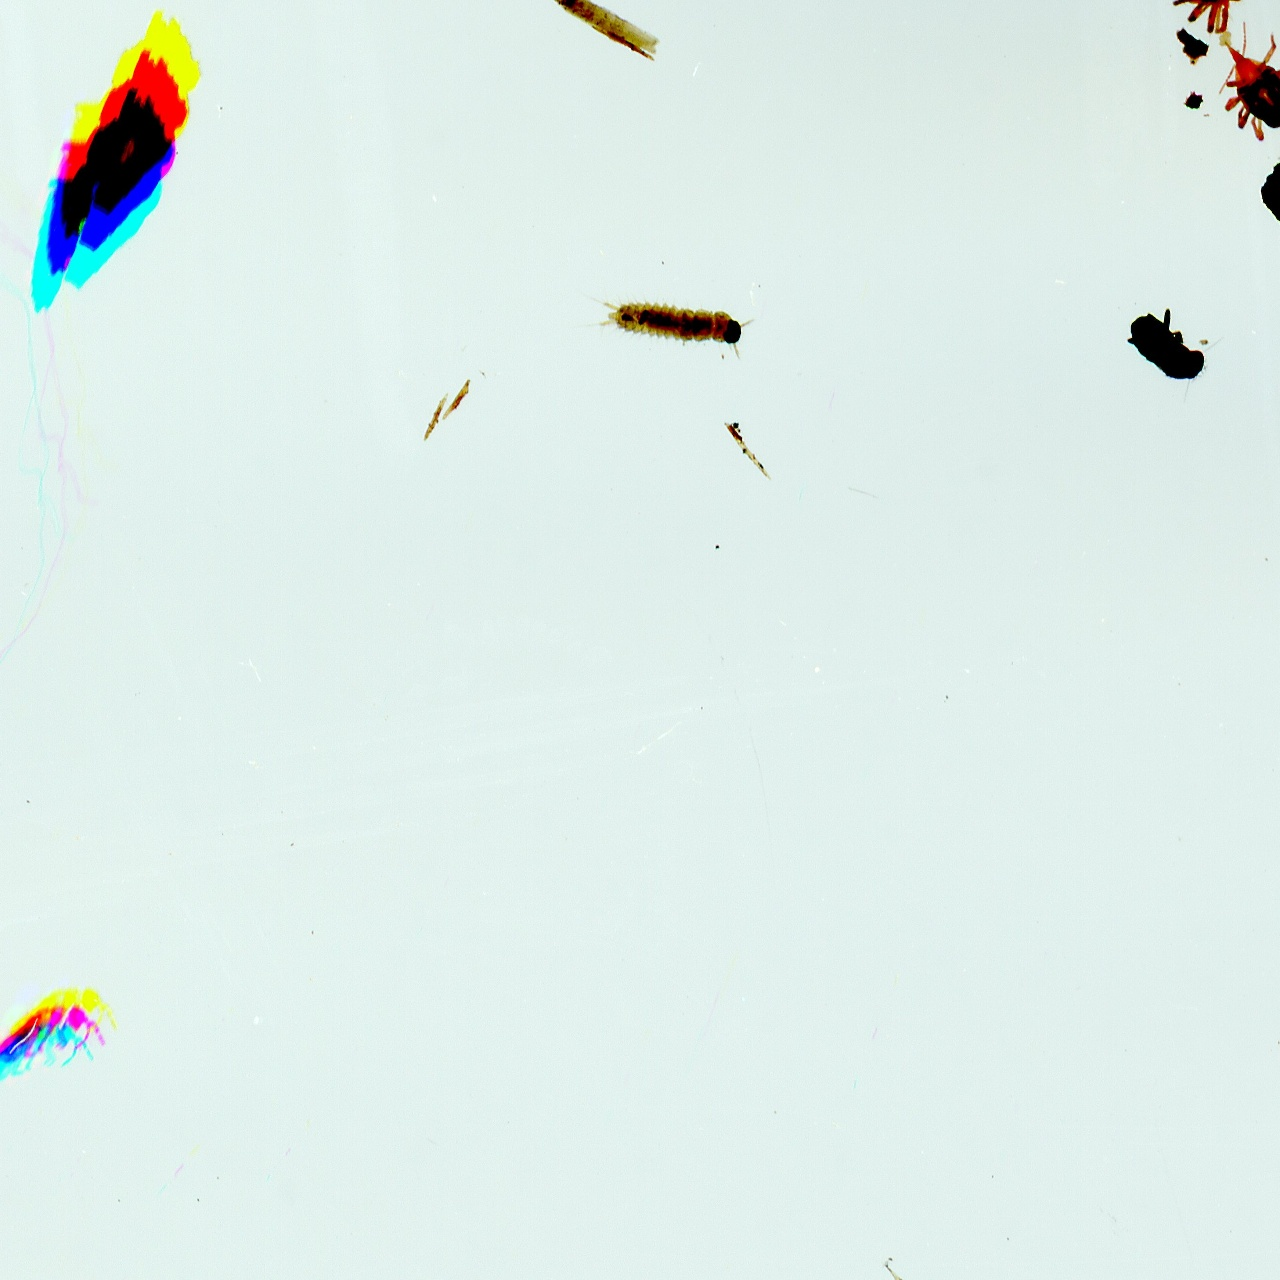arthropod: (561, 262, 774, 391), (0, 962, 134, 1122), (1123, 305, 1229, 408), (1216, 19, 1280, 144), (1170, 0, 1245, 36)
